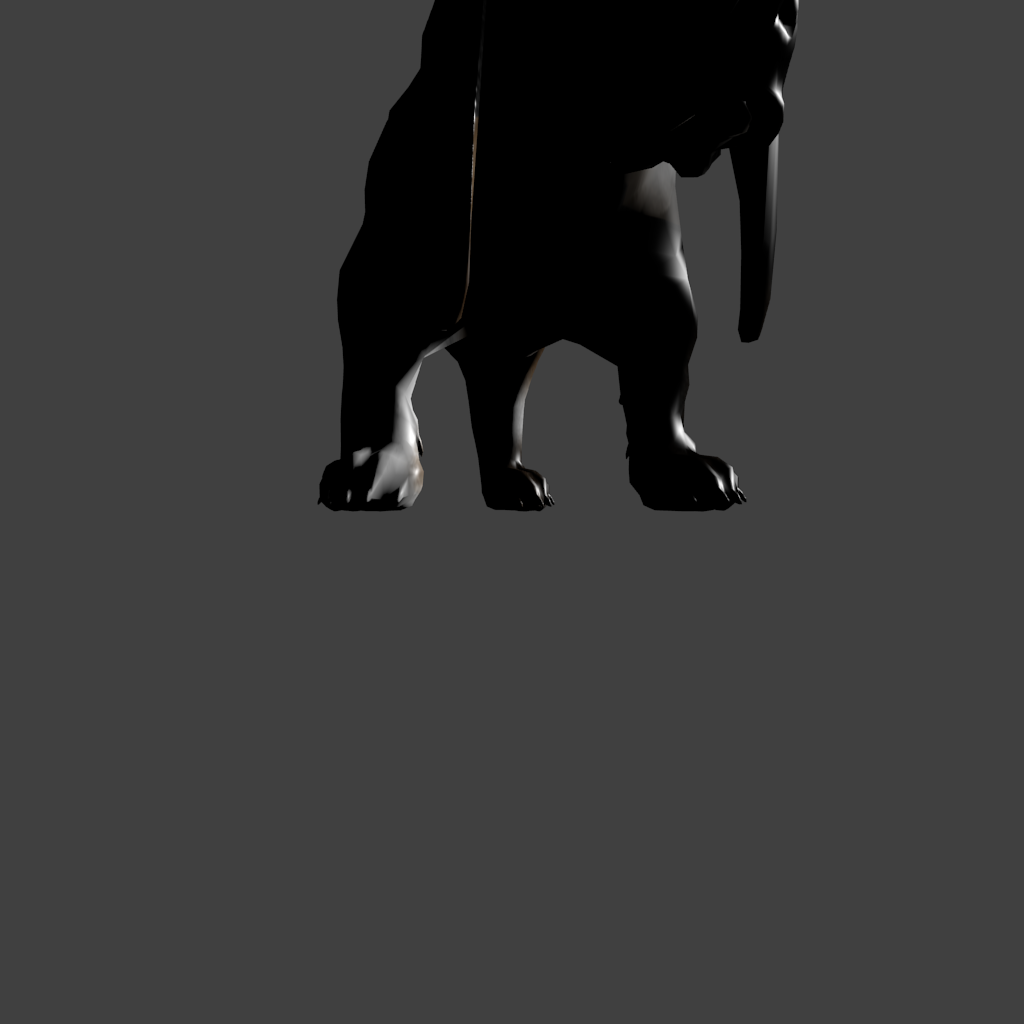Dog: (317, 0, 482, 512)
